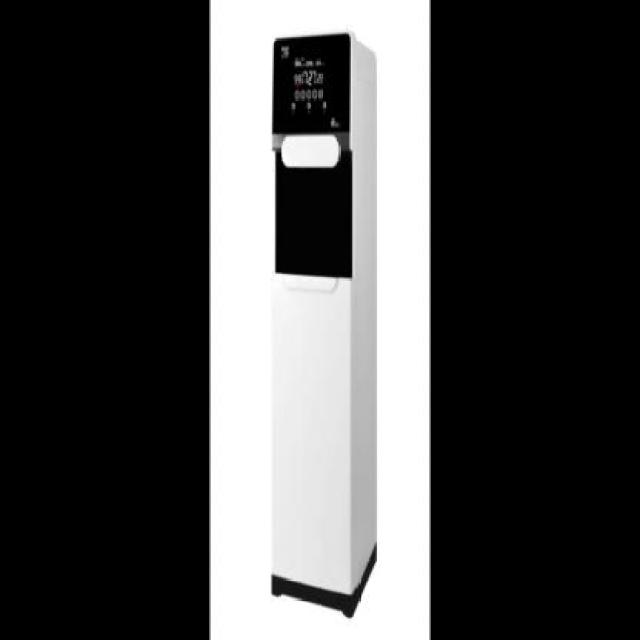cooler: (267, 29, 378, 619)
